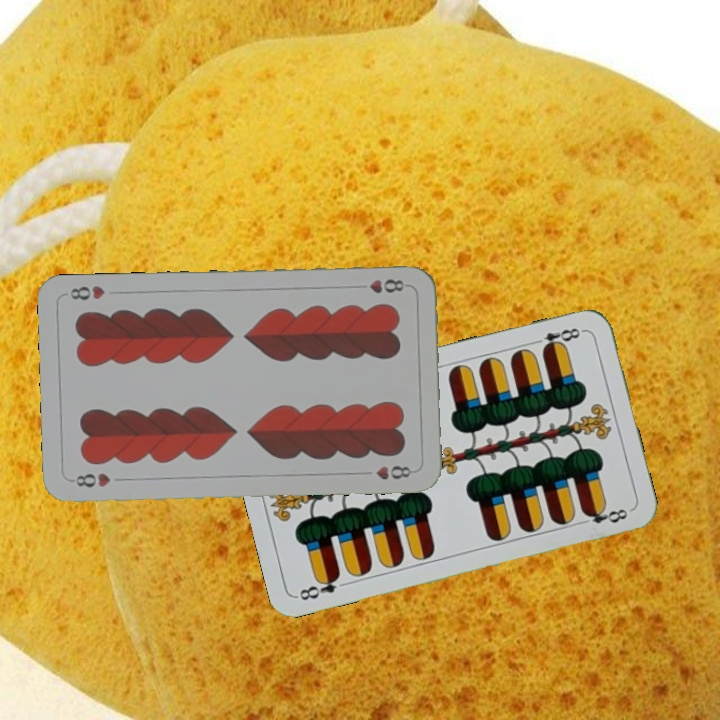E8: (528, 324, 587, 354), (294, 570, 343, 603)
H8: (352, 275, 407, 296), (67, 468, 113, 490)
